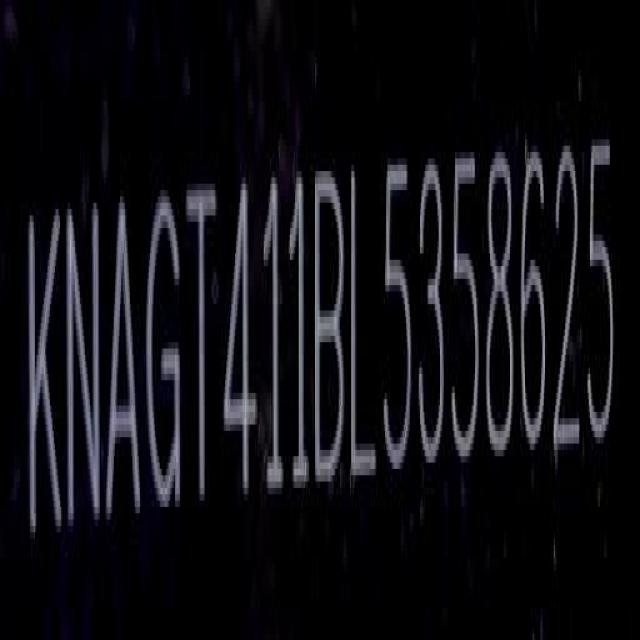1: (262, 164, 286, 512), (290, 161, 308, 504)
2: (551, 142, 581, 466)
3: (418, 153, 446, 477)
4: (223, 170, 256, 518)
5: (386, 154, 415, 488), (453, 145, 482, 468), (589, 134, 618, 457)
6: (520, 146, 548, 464)
8: (485, 146, 515, 464)
A: (108, 190, 144, 539)
B: (316, 163, 346, 502)
G: (145, 182, 182, 531)
K: (22, 197, 64, 552)
L: (351, 155, 379, 498)
N: (68, 194, 102, 549)
T: (191, 175, 220, 522)
